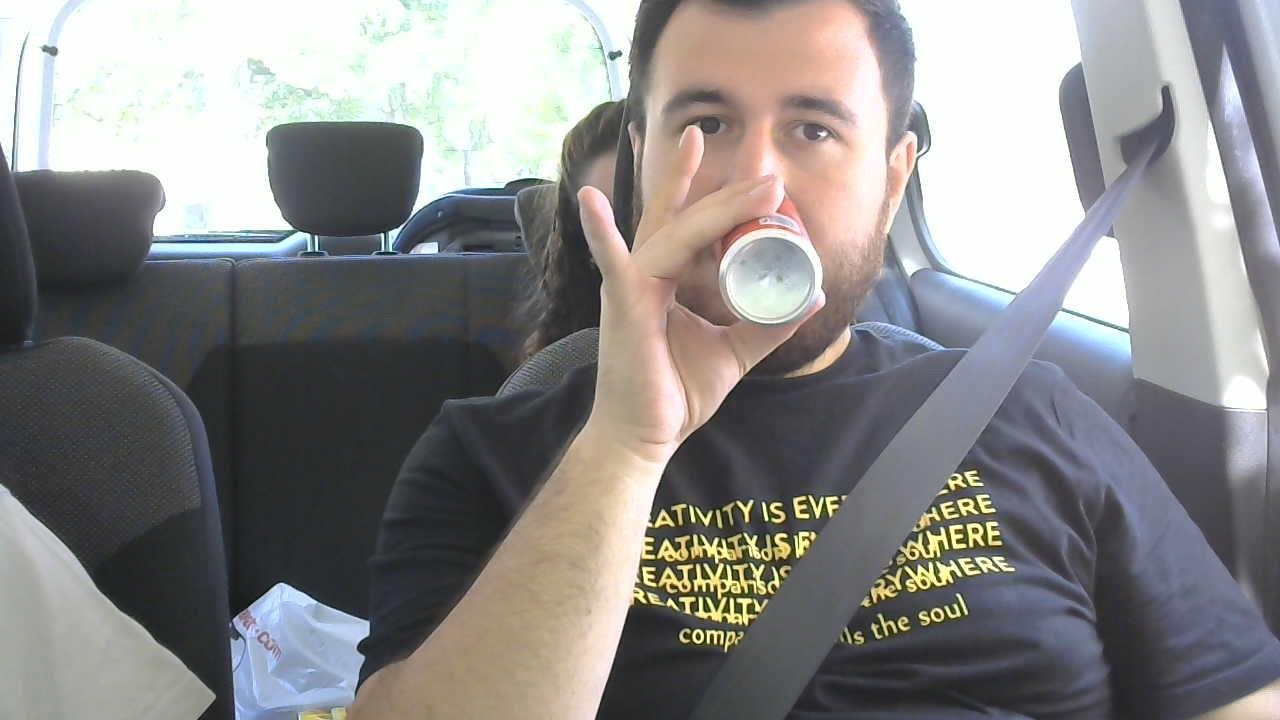Drinking: (628, 0, 918, 363)
